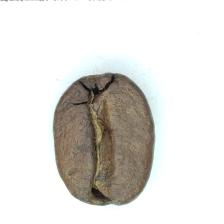NG: (72, 88, 137, 193)
